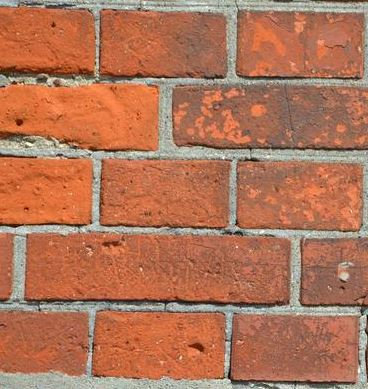brick: (23, 231, 292, 306), (168, 82, 368, 152), (1, 82, 163, 153), (231, 6, 366, 82), (234, 156, 365, 232), (89, 308, 228, 379), (227, 311, 363, 381), (98, 156, 230, 228), (98, 9, 228, 77), (1, 4, 97, 75), (1, 155, 96, 225), (1, 306, 92, 377), (299, 235, 367, 306)
